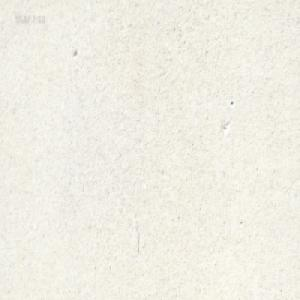Wrench: (140, 0, 147, 4)
